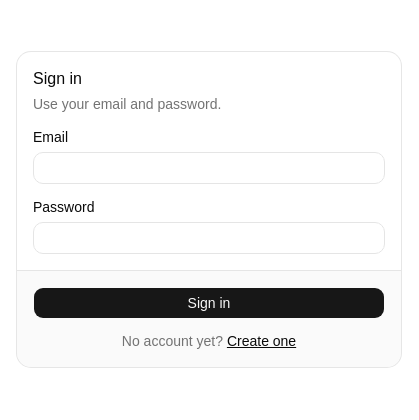
Test: routing › switches to registration from the sign-in form
Click the link "Create one" at point(262, 340), box x1=227 y1=332 x2=296 y2=348
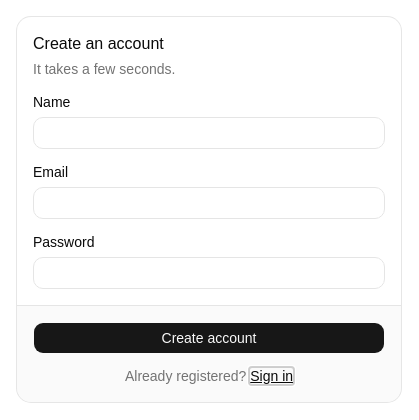
Result: the text "It takes a few seconds." is shown at x1=33 y1=60 x2=175 y2=76
